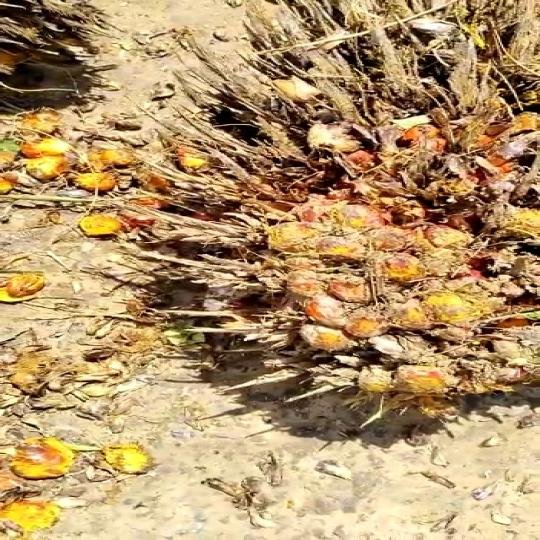terlalu masak: (108, 2, 540, 428)
